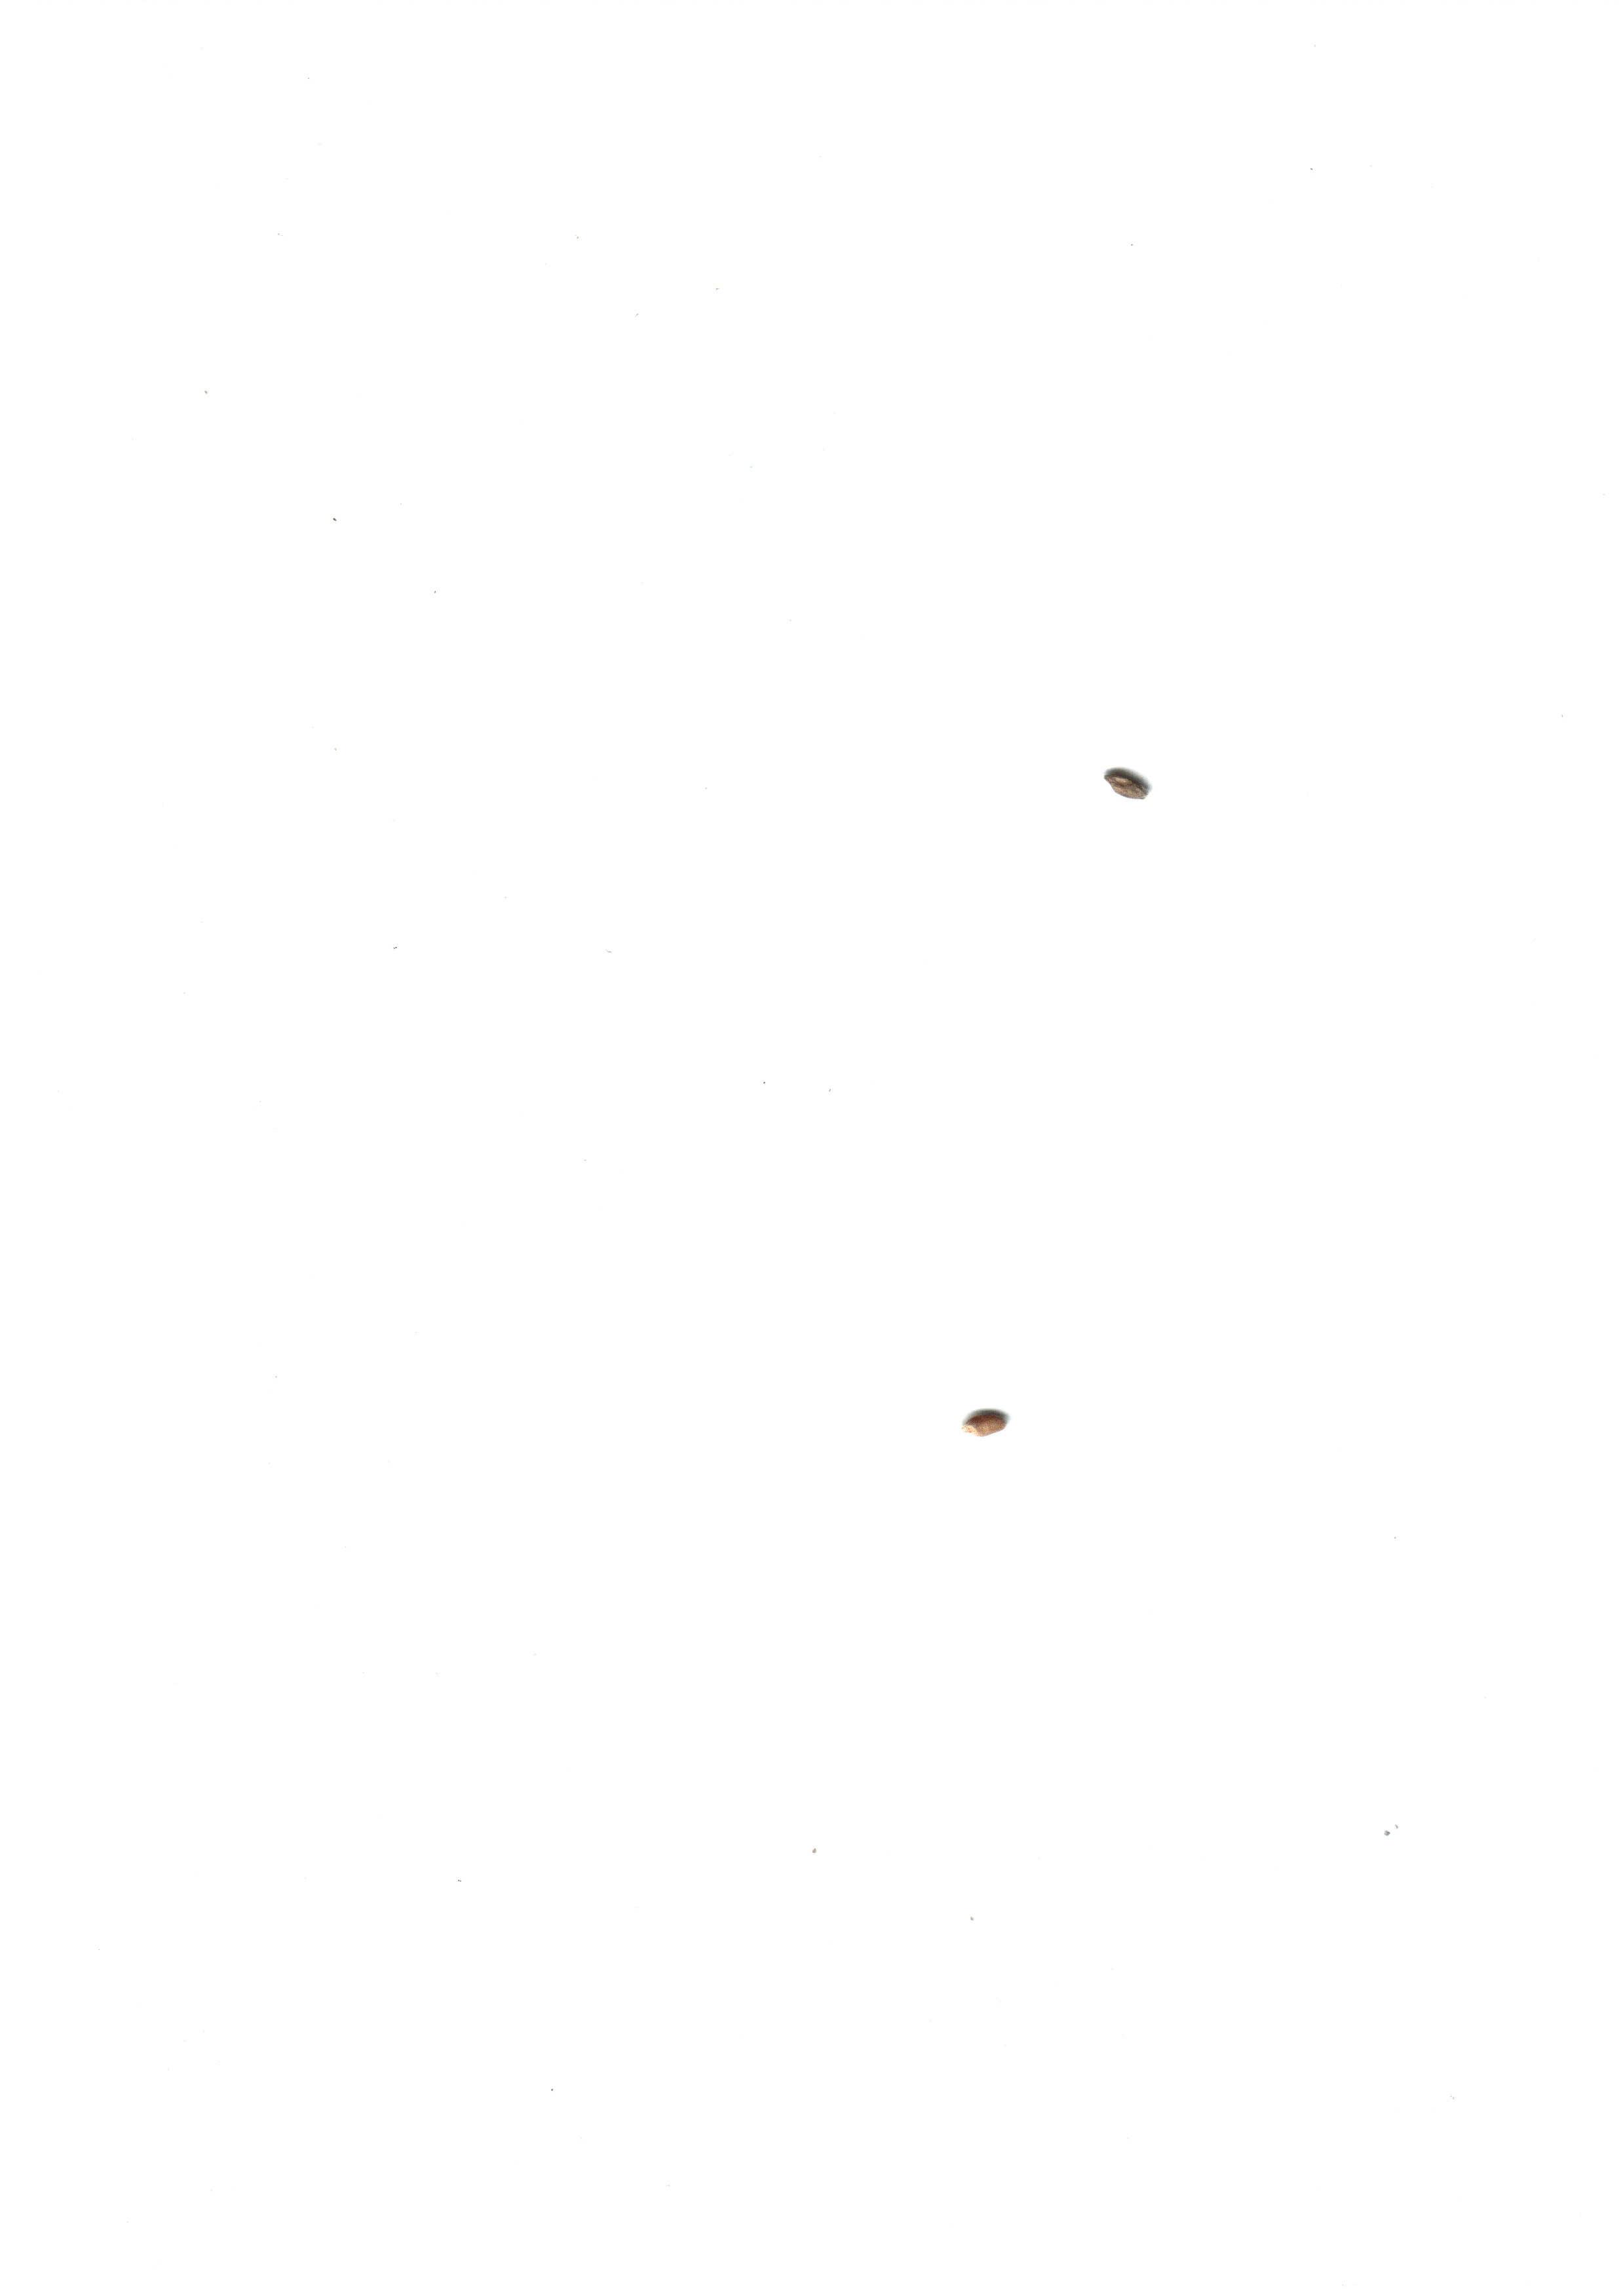grains_2mm: (951, 1386, 1023, 1456), (1100, 752, 1158, 829)
